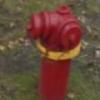a fire hydrant: (25, 4, 87, 100)
